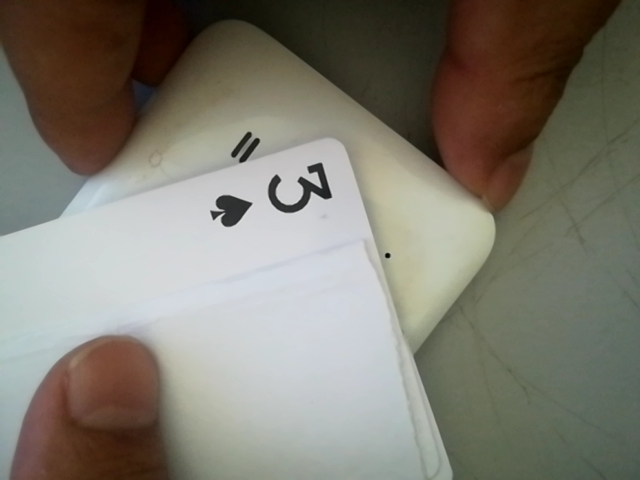ht 3: (195, 136, 350, 231)
